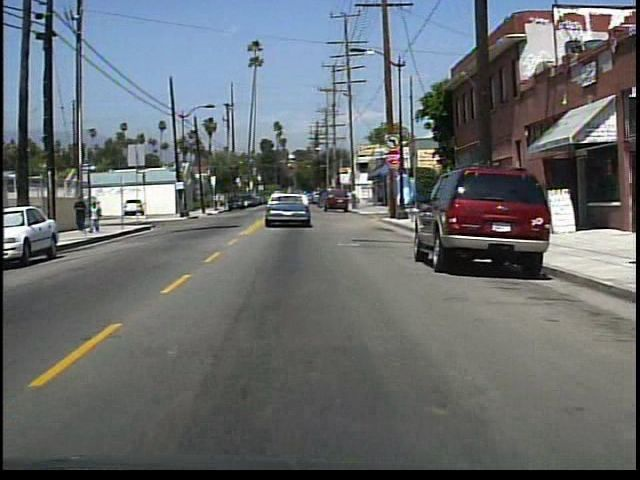person: (74, 193, 91, 234), (89, 200, 105, 235)
